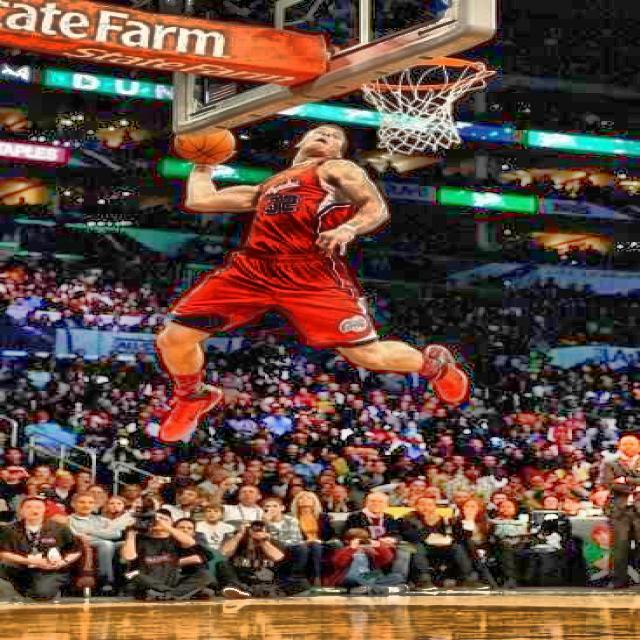board: (175, 128, 235, 164)
rim: (358, 56, 490, 151)
